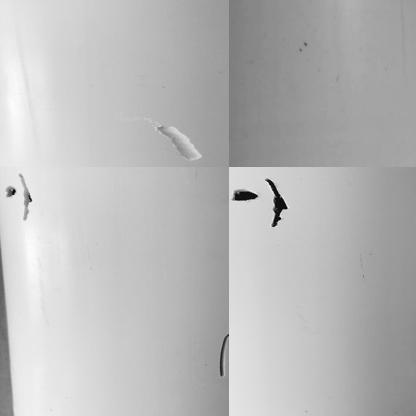fengxi: (215, 329, 228, 380)
kongdong: (264, 174, 295, 235), (226, 179, 265, 212), (17, 175, 35, 223), (2, 186, 19, 200)
sunshang: (150, 118, 208, 163)
